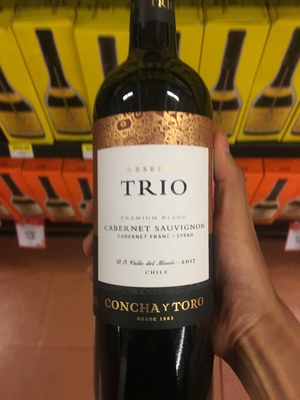trio cabernet sauvignon: (84, 29, 226, 400)
